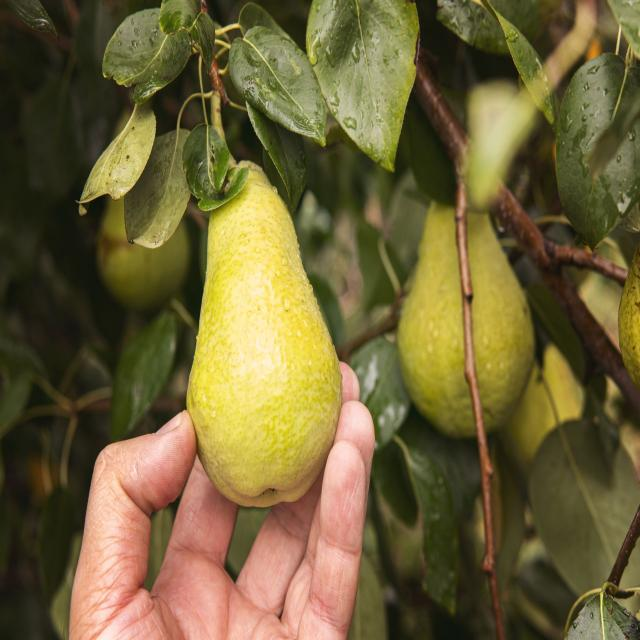pera: (156, 155, 359, 513)
